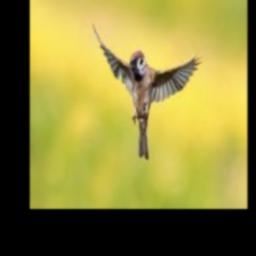Sparrow: (94, 23, 202, 160)
